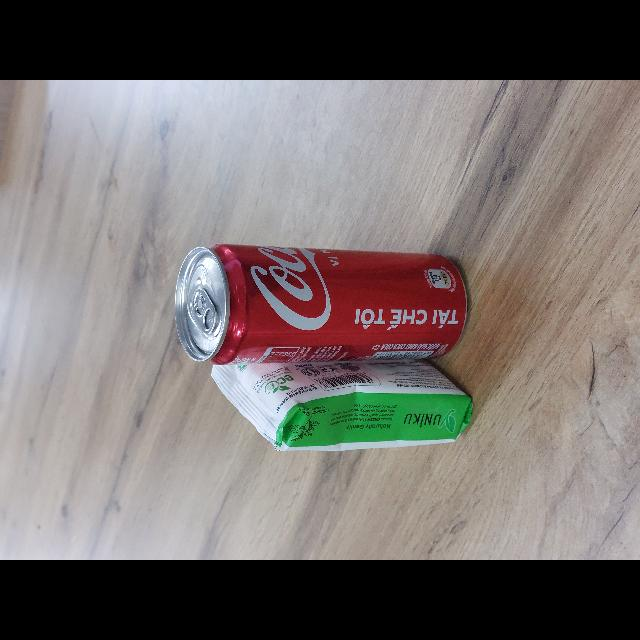coca_cola: (195, 256, 316, 547)
khan_giay: (109, 293, 199, 553)
